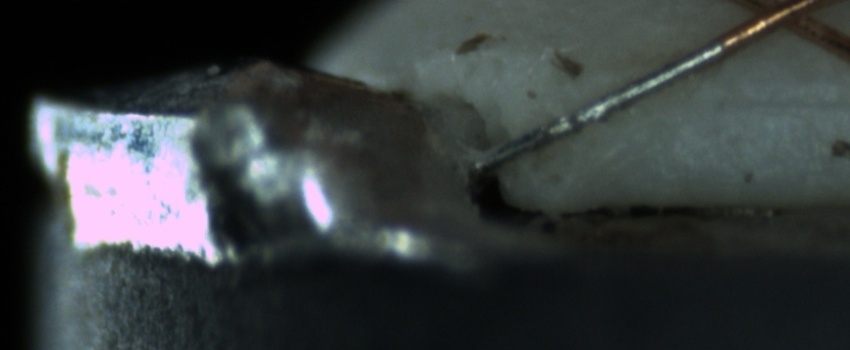CL: (725, 0, 832, 42)
DL: (690, 68, 850, 134)
TS: (466, 38, 725, 172)
